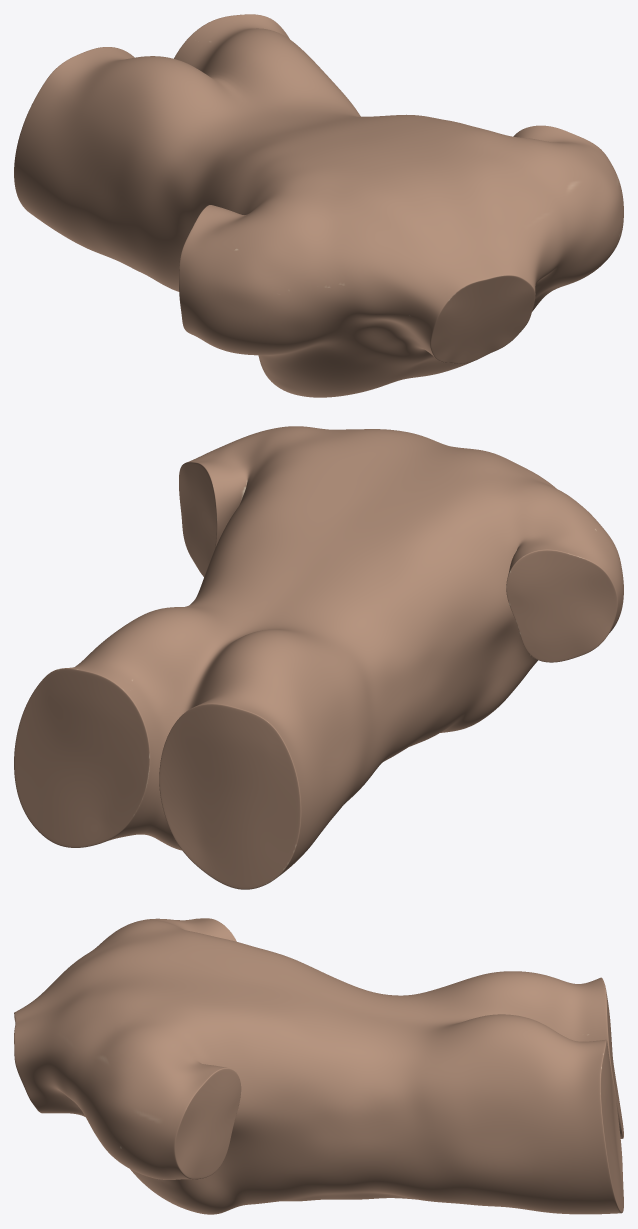
File: malemodel.obj
3 renders of one model, top to bottom at view 1: azimuth 30°, elevation 25°; view 2: azimuth 150°, elevation 25°; view 3: azimuth 270°, elevation 25°, orthographic. The views are drawn at different scales.
Visible parts, largest first — view 1: 11541_maletorso_V1; view 2: 11541_maletorso_V1; view 3: 11541_maletorso_V1.
Boxes of the visible parts, x1,y1,x2,y2 form: 11541_maletorso_V1: (14, 14, 623, 397); 11541_maletorso_V1: (14, 426, 623, 889); 11541_maletorso_V1: (14, 918, 623, 1214).
Bounding box in the file's own units: 58.82 × 31.15 × 78.8.
Materials: 1 (1 with a texture image).
